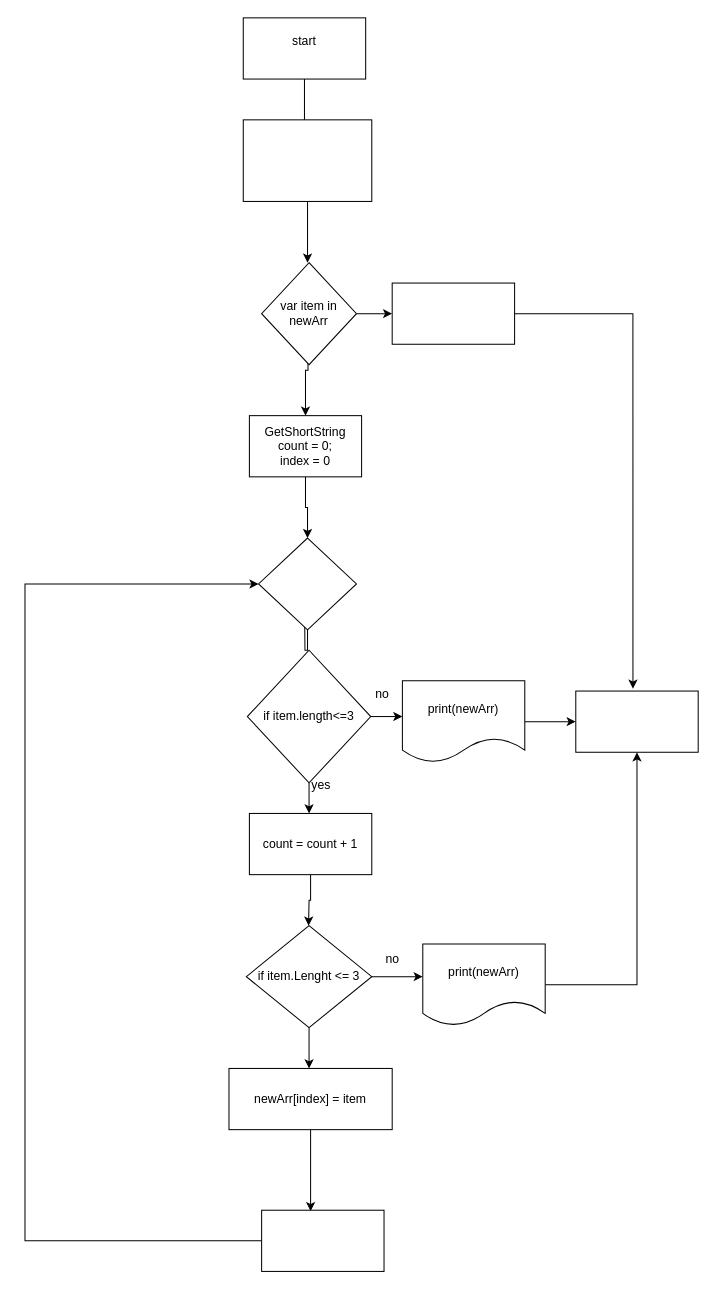
Image size: 716x1289. Some labels were removed from this diagram. The box of each missing label's shape, as (x1, y1, x2, y2) in pixels:
end: (575, 690, 698, 752)
Main arr = " , " input = ReadLine newArr = GetShortString: (242, 119, 372, 201)
print(item): (391, 282, 515, 344)
return newArr: (261, 1209, 384, 1271)
var item in arr: (258, 537, 356, 630)
